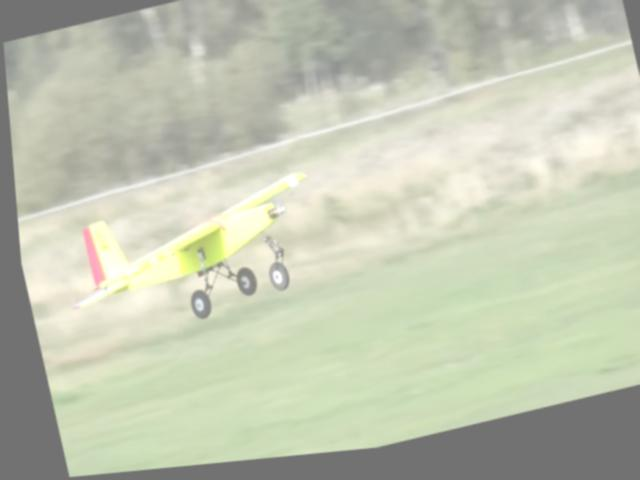plane: (46, 170, 329, 351)
